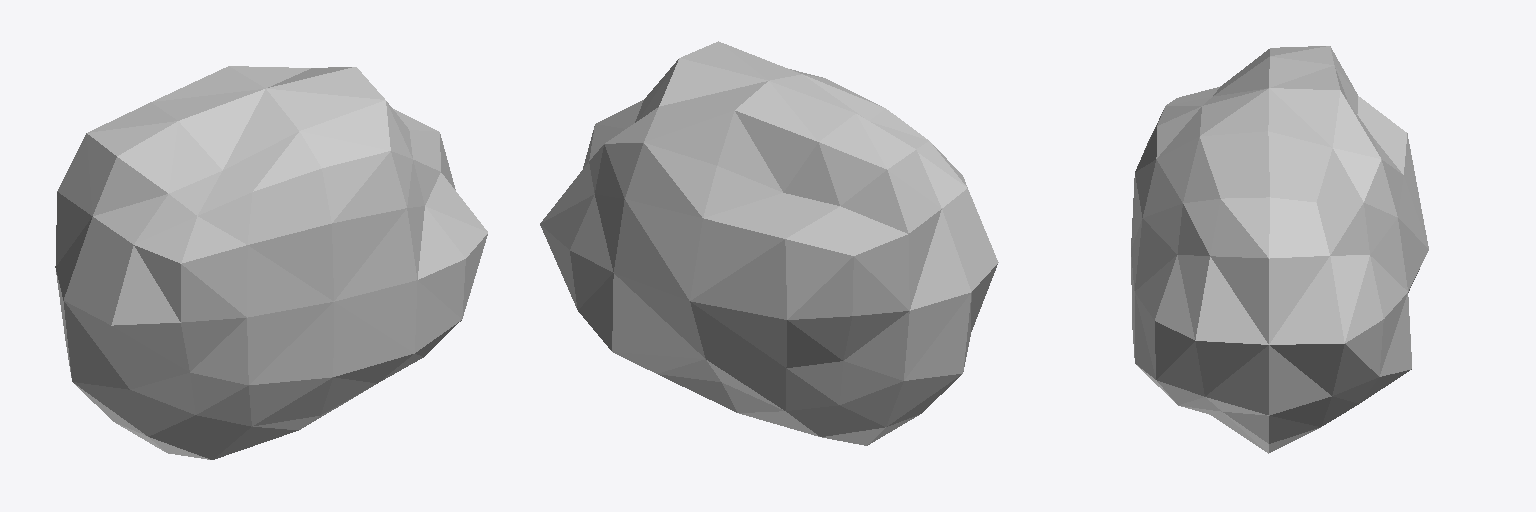
The model's file is O_IceWorldBoulder_a.obj.
The picture shows the model from 3 angles: view 1: azimuth 30°, elevation 25°; view 2: azimuth 150°, elevation 25°; view 3: azimuth 270°, elevation 25°; orthographic projection.
Parts seen in each view (by area): view 1: O_IceWorldBoulder_a; view 2: O_IceWorldBoulder_a; view 3: O_IceWorldBoulder_a.
Part boxes in pixels (x1,y1,x2,y2): O_IceWorldBoulder_a: (55,66,487,459); O_IceWorldBoulder_a: (540,41,998,445); O_IceWorldBoulder_a: (1131,46,1428,453).
Size of the model in its own units: 114 by 94.19 by 74.53.